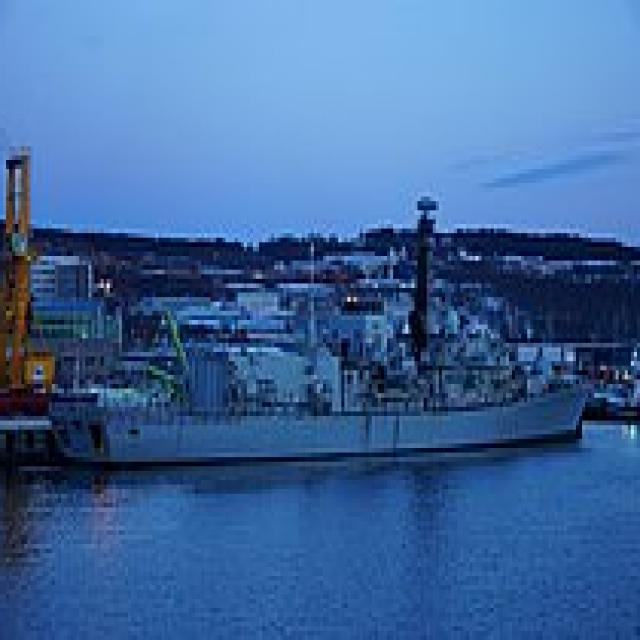Warship: (49, 188, 603, 476)
